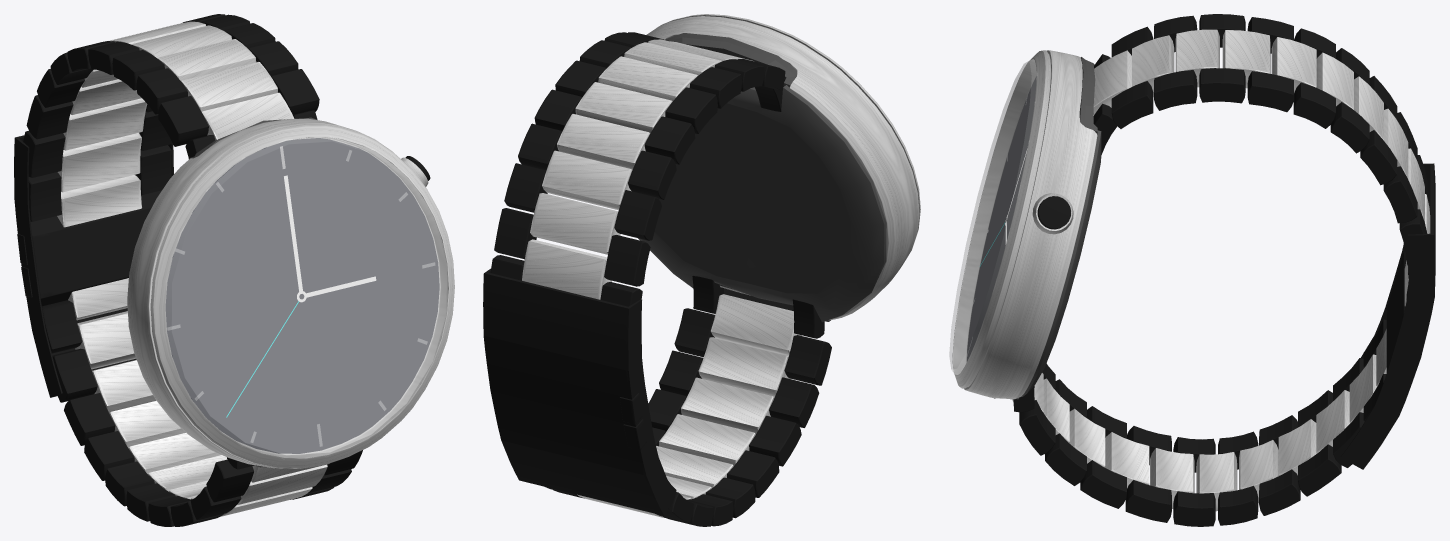
The picture shows the model from 3 angles, left to right: view 1: azimuth 30°, elevation 25°; view 2: azimuth 150°, elevation 25°; view 3: azimuth 270°, elevation 25°; orthographic projection.
Visible parts, largest first — view 1: watchGlass, WatchshellTop, FinalStrap1, FinalStrap2, watchShell, strapClip, hrHand1; view 2: FinalStrap1, watchBottom, strapClip, FinalStrap2, watchShell; view 3: FinalStrap2, FinalStrap1, watchShell, watchGlass, strapClip, WatchshellTop, watchBottom.
Boxes of the visible parts, x1,y1,x2,y2 form: watchGlass: (165, 136, 448, 459); WatchshellTop: (165, 138, 439, 453); FinalStrap1: (23, 14, 319, 227); FinalStrap2: (42, 278, 362, 526); watchShell: (127, 118, 454, 468); strapClip: (14, 135, 173, 397); hrHand1: (284, 175, 302, 291); FinalStrap1: (491, 32, 785, 306); watchBottom: (638, 33, 886, 322); strapClip: (483, 268, 675, 515); FinalStrap2: (545, 276, 831, 526); watchShell: (646, 14, 920, 319); FinalStrap2: (1012, 319, 1386, 526); FinalStrap1: (1093, 14, 1430, 306); watchShell: (952, 50, 1097, 399); watchGlass: (949, 60, 1037, 374); strapClip: (1340, 163, 1435, 469); WatchshellTop: (967, 76, 1036, 360); watchBottom: (994, 57, 1101, 399).
Size of the model in its own units: 10.65 by 14.89 by 14.75.
8 materials, 1 textured.
